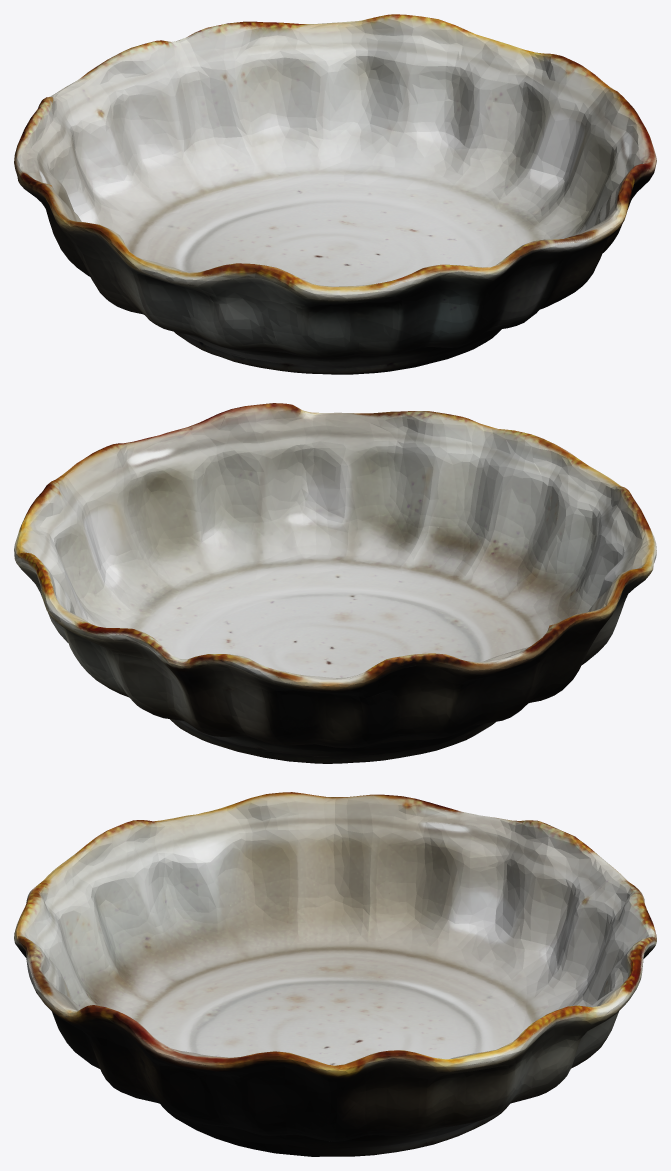
Rendered from porcelain-dish-used-rustic-worn.jpeg.glb.
3 views of the same model, one above another, from view 1: azimuth 30°, elevation 25°; view 2: azimuth 150°, elevation 25°; view 3: azimuth 270°, elevation 25° (orthographic).
Visible parts, largest first — view 1: world; view 2: world; view 3: world.
Boxes of the visible parts, left/top/right/bottom form: world: left=14, top=14, right=656, bottom=374; world: left=14, top=403, right=656, bottom=763; world: left=14, top=792, right=656, bottom=1156.
Size of the model in its own units: 1 by 0.279 by 1.
Materials: 1 (1 with a texture image).
